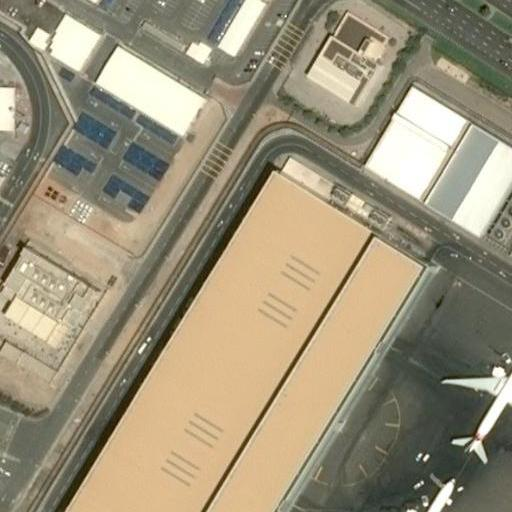Aircraft: (439, 349, 512, 461), (352, 464, 463, 512)
